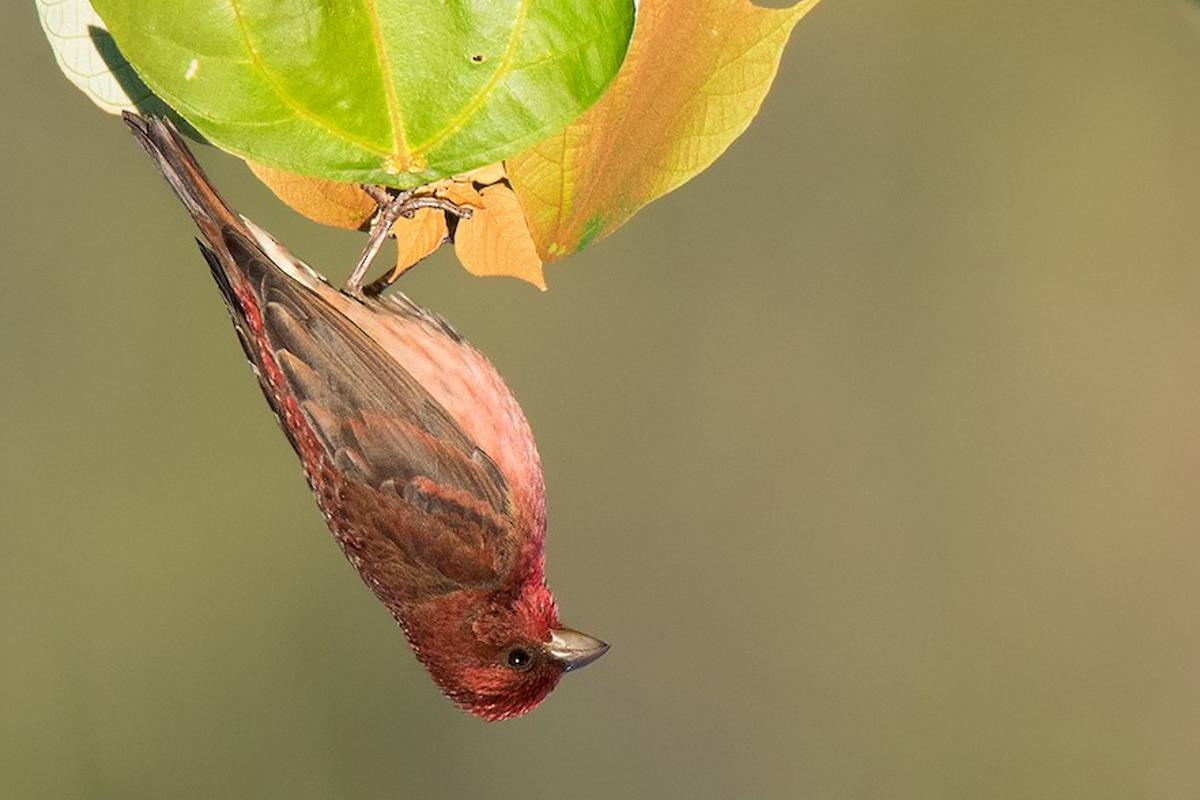rosefinch: (195, 147, 627, 735)
